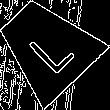L_NW: (17, 18, 75, 75)
